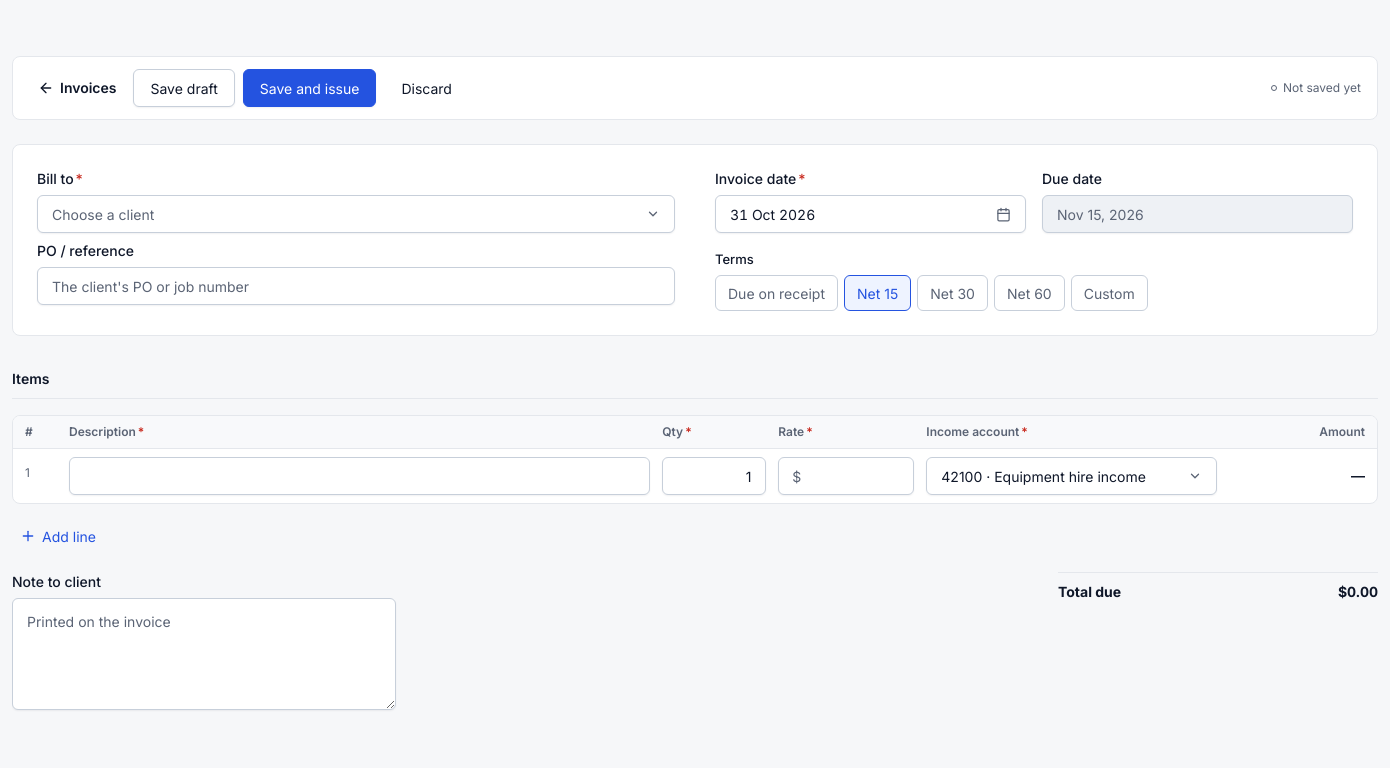
Test case: ManualInvoiceForm (ADR-048) › lists what is missing instead of saving
What coordinates should you click on to do the following:
click the button "Save draft"
I would click on:
 (184, 88)
Its box is [134, 69, 235, 107].
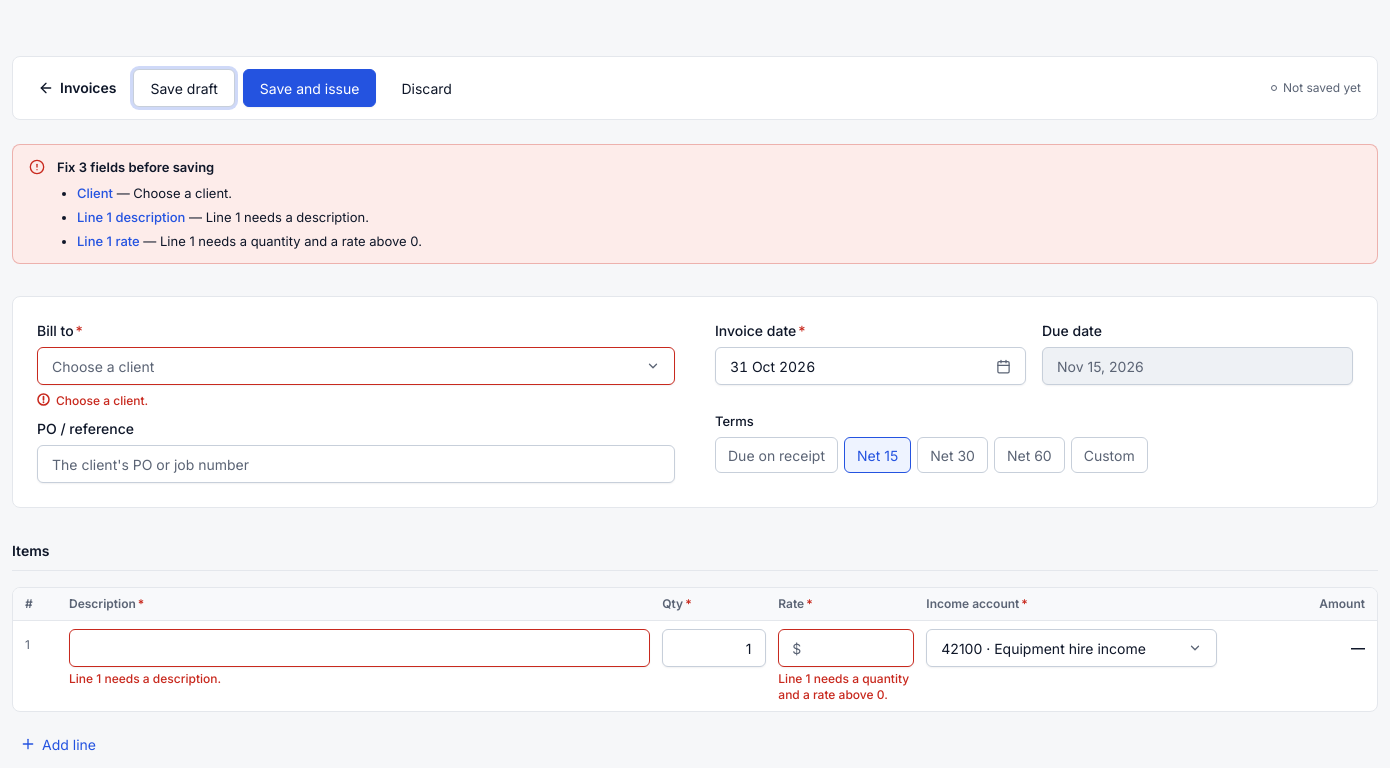
Check: the text "Choose a client." is shown, box [37, 393, 148, 408]
Check: the text "Line 1 needs a description." is shown, box [69, 671, 221, 686]
